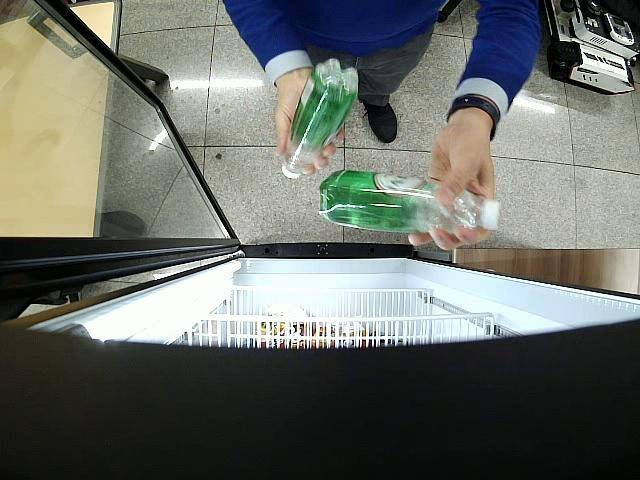18_trevi: (320, 170, 500, 232), (283, 60, 359, 178)
